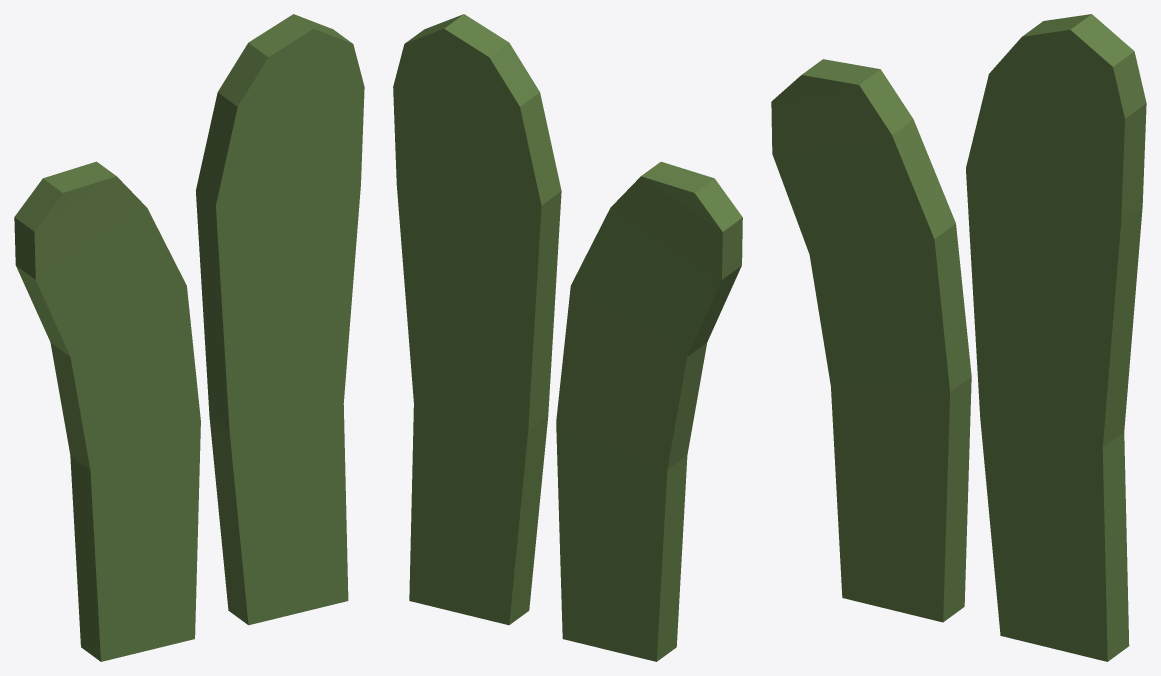
Rendered from Algae2_tex.fbx.
3 renders of one model, left to right at view 1: azimuth 30°, elevation 25°; view 2: azimuth 150°, elevation 25°; view 3: azimuth 330°, elevation 25°, orthographic. The views are drawn at different scales.
Parts seen in each view (by area): view 1: Algae2_tex; view 2: Algae2_tex; view 3: Algae2_tex.
Boxes of the visible parts, left/top/right/bottom form: Algae2_tex: left=14, top=14, right=364, bottom=661; Algae2_tex: left=393, top=14, right=742, bottom=661; Algae2_tex: left=771, top=14, right=1146, bottom=661.
Bounding box in the file's own units: 0.3001 × 0.5054 × 0.0321.
